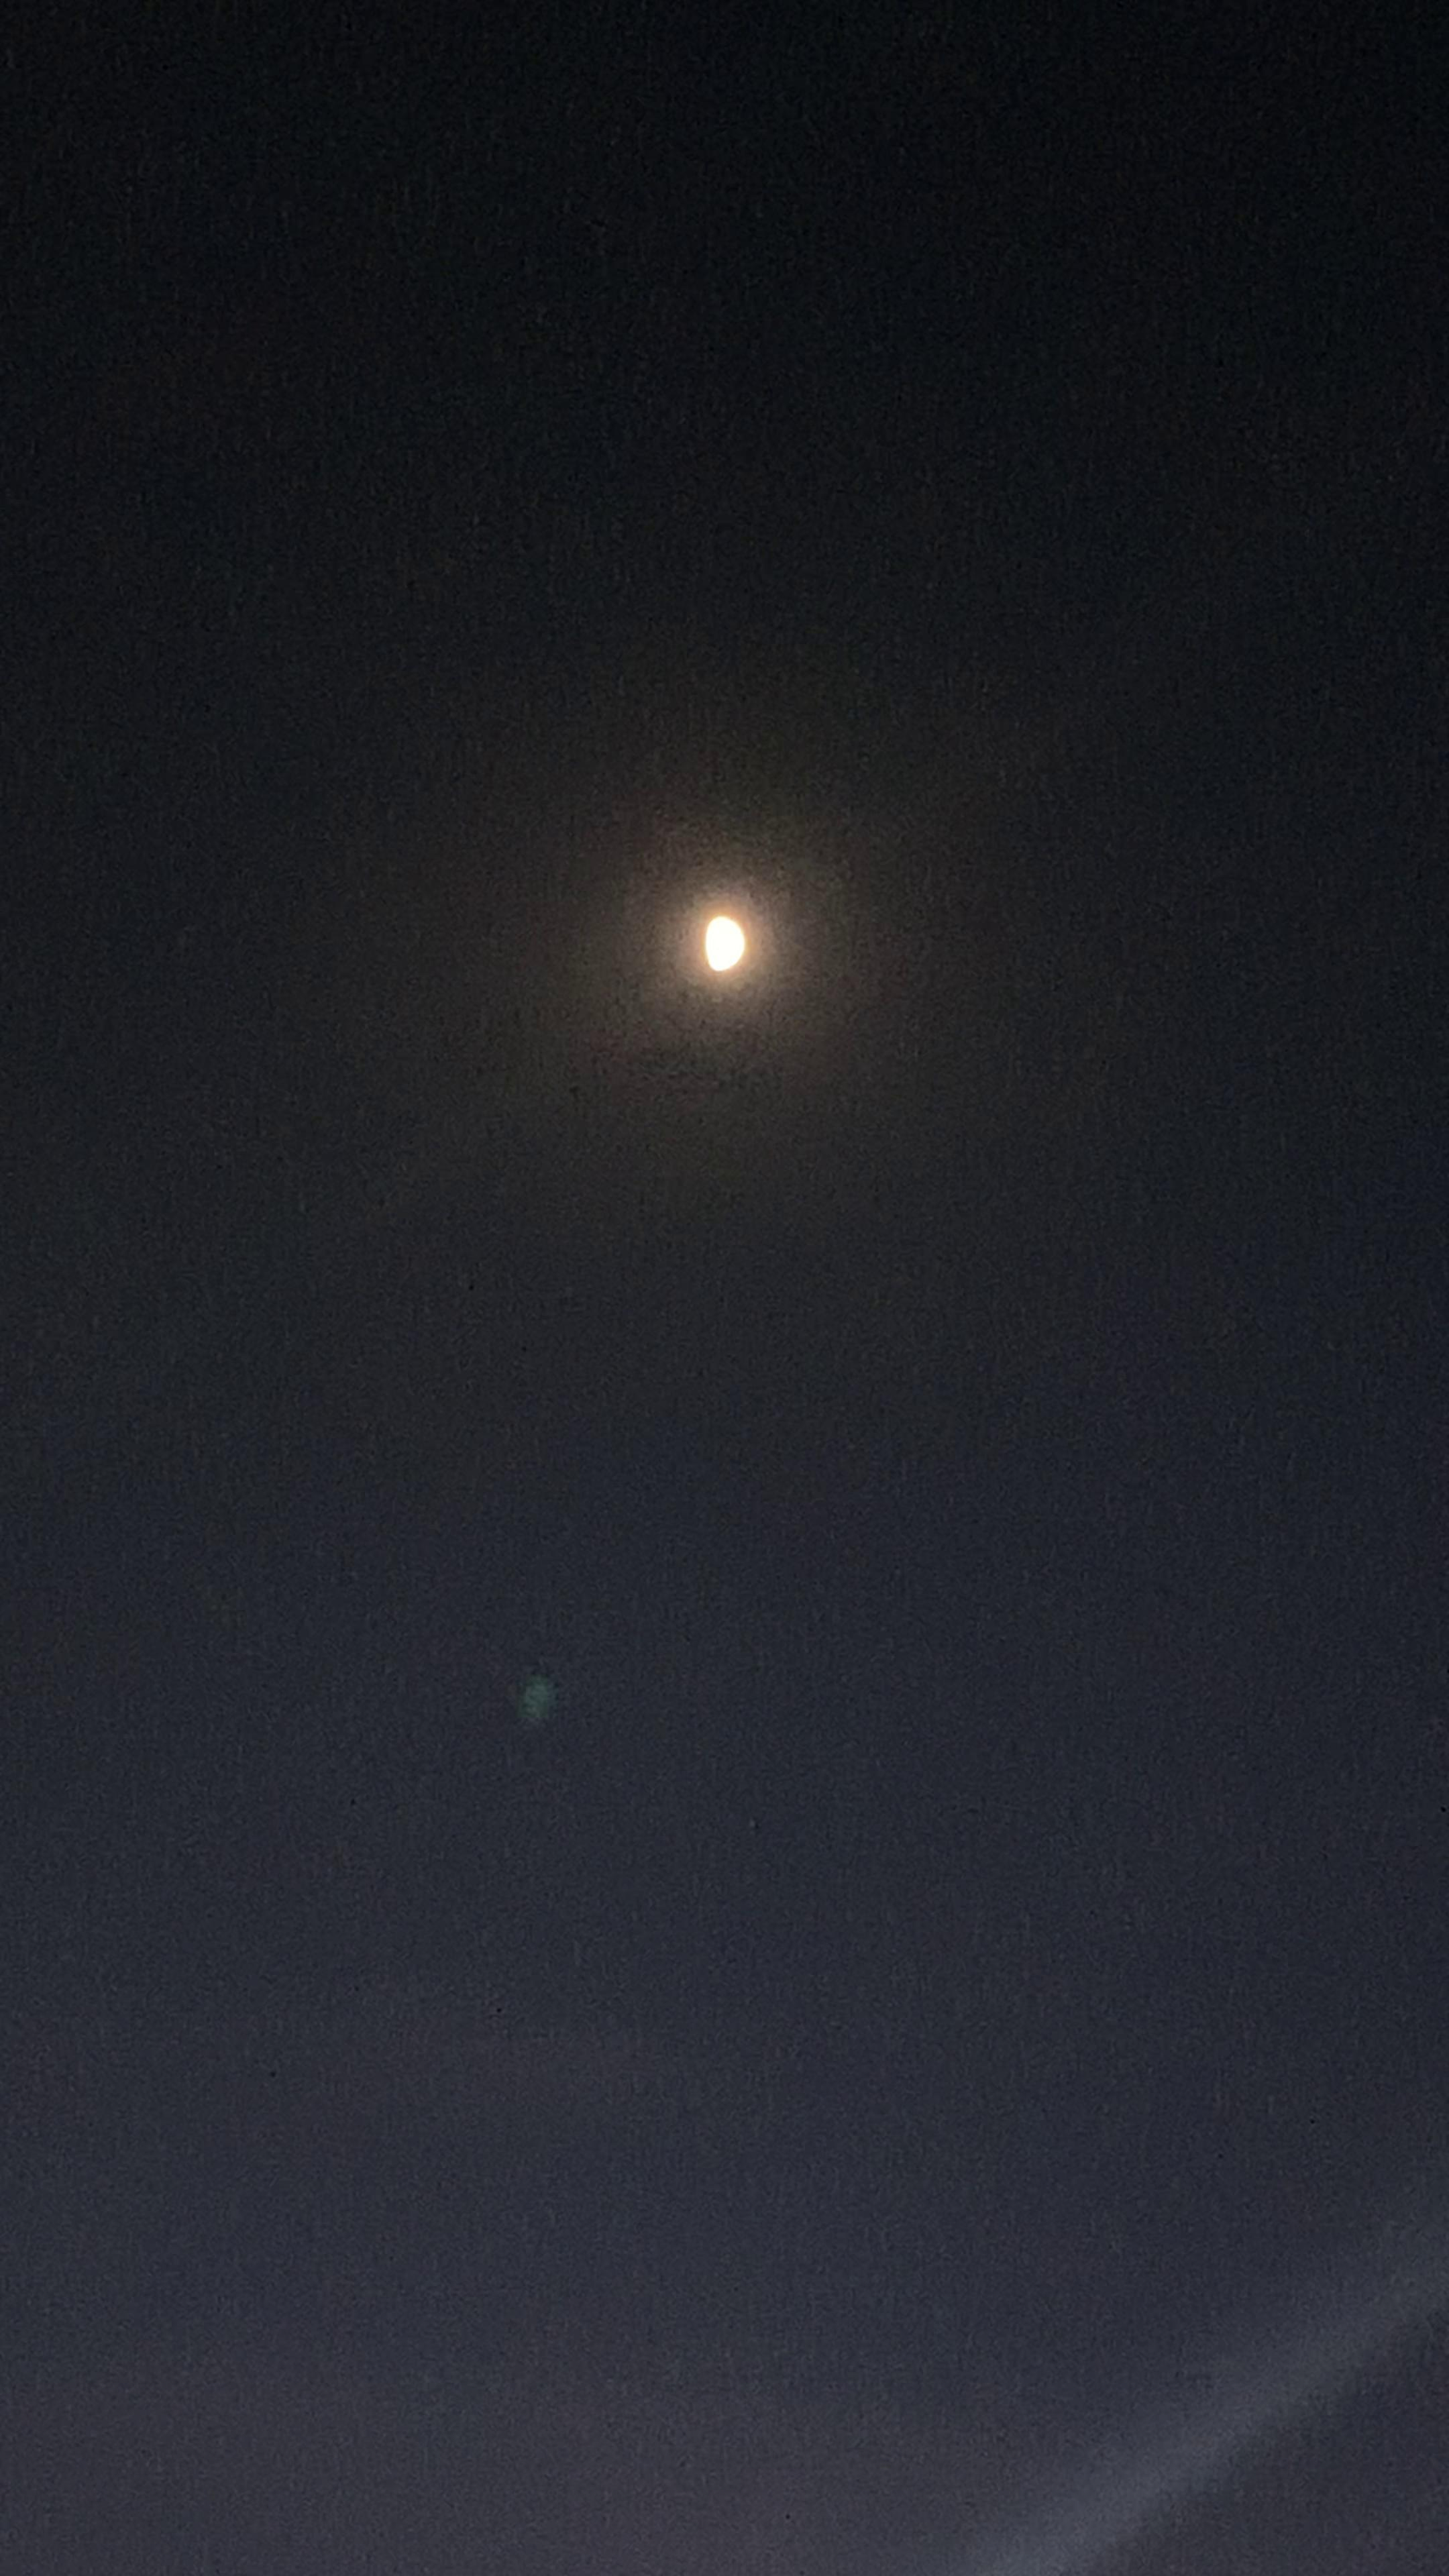moon: (688, 879, 789, 996)
